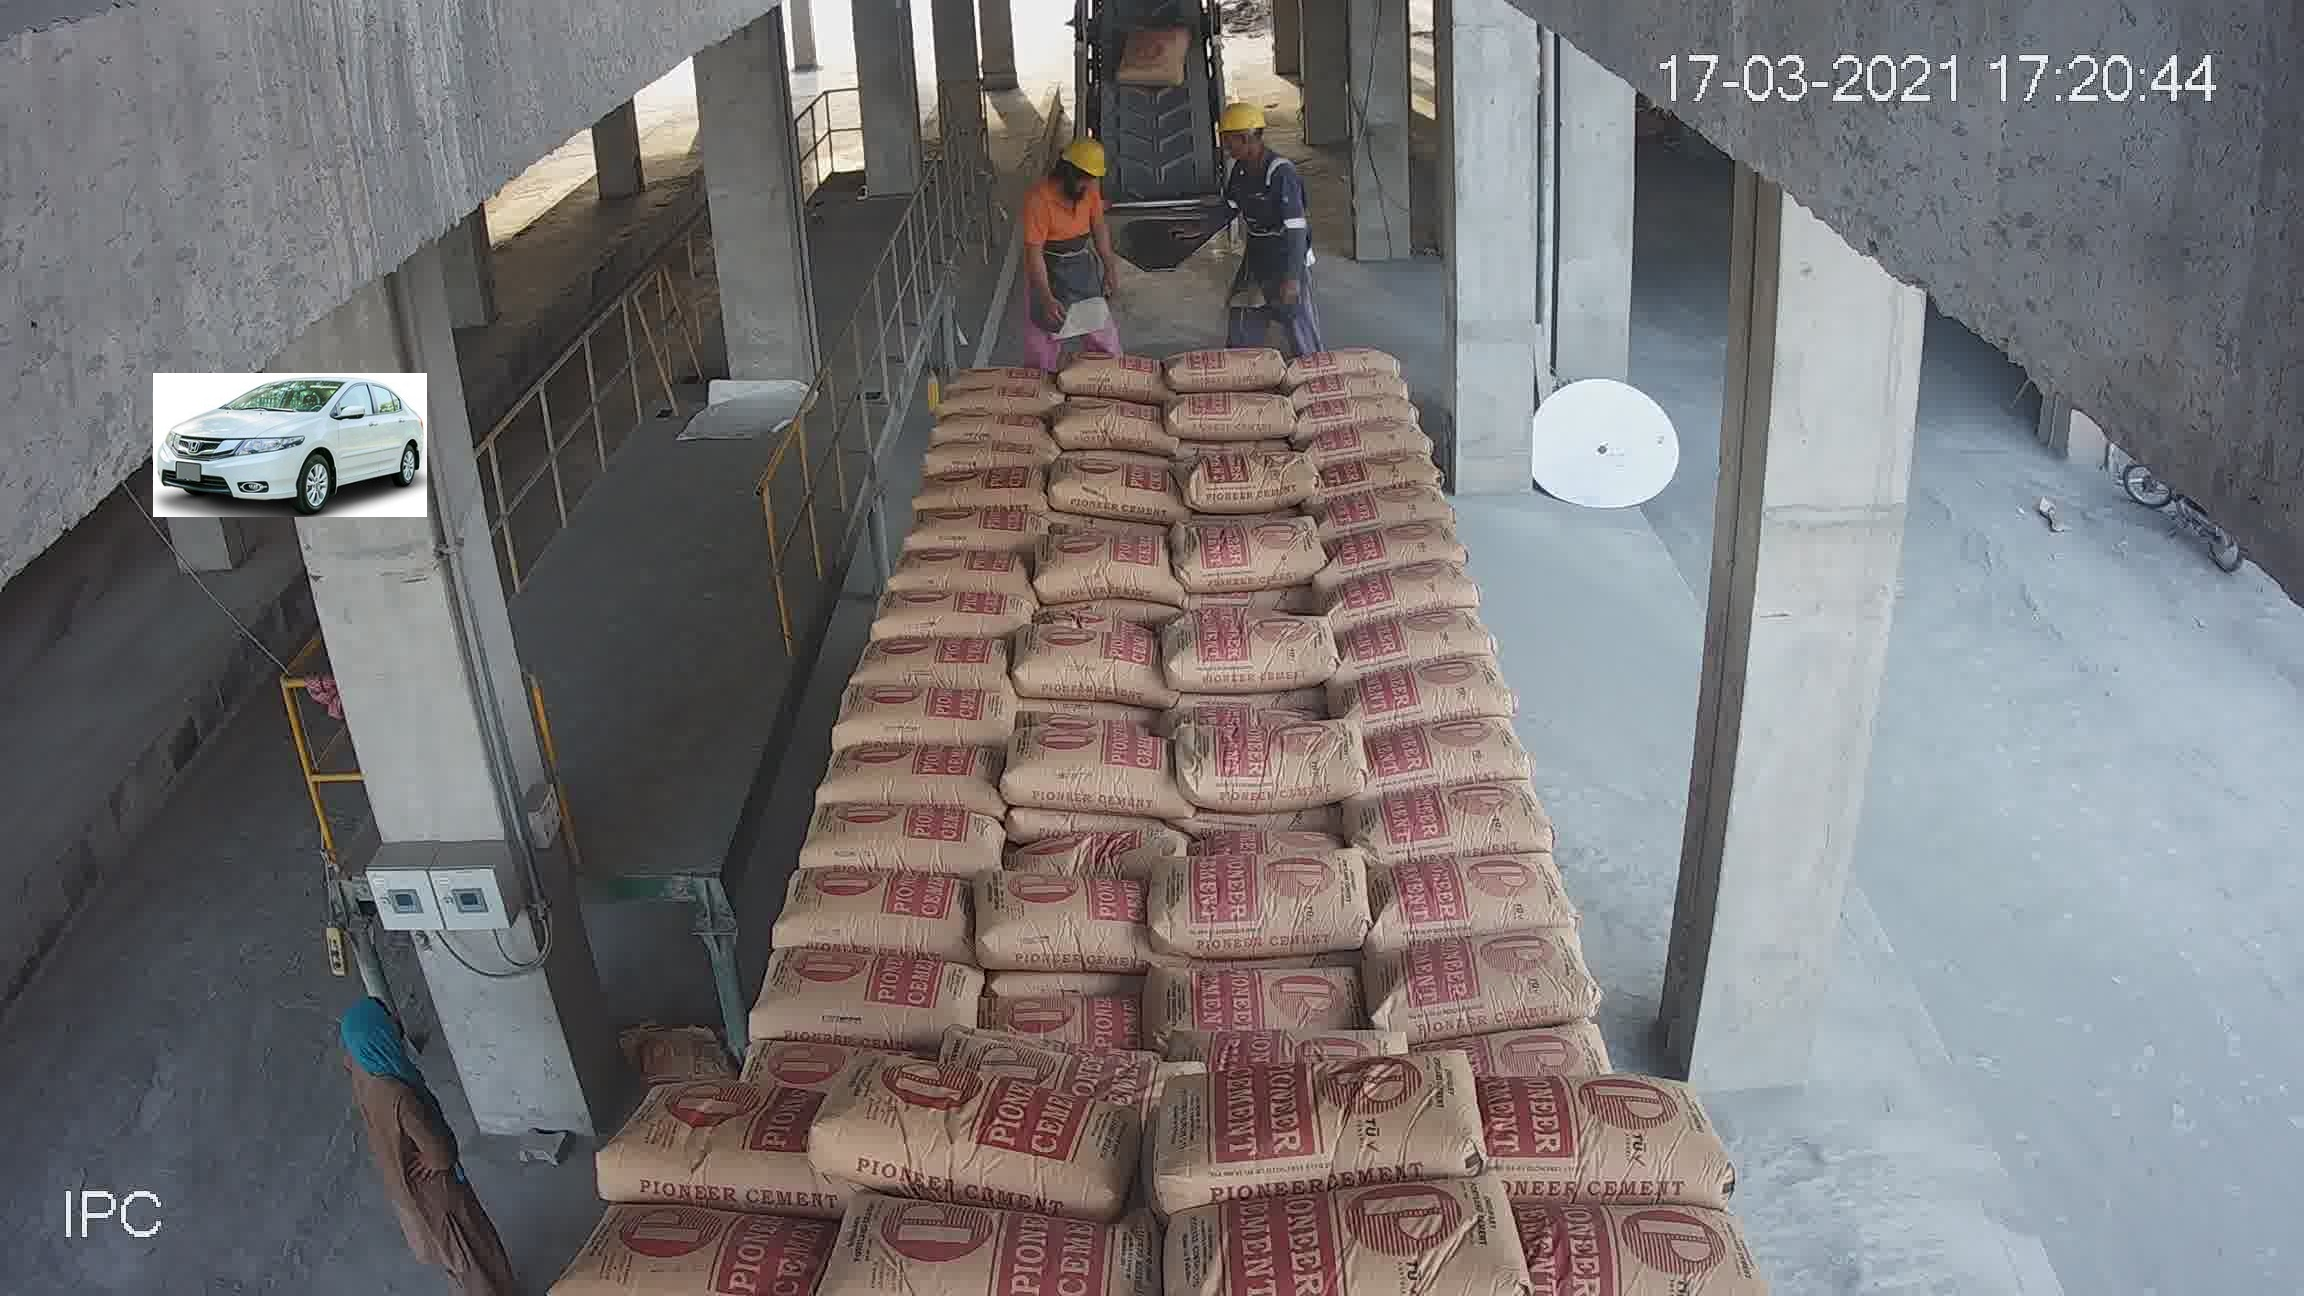bag: (942, 574, 1185, 720), (1081, 157, 1212, 305)
bag_h: (1127, 1040, 1484, 1207), (1146, 1165, 1556, 1296), (873, 918, 1165, 1073), (821, 1063, 1171, 1185), (1464, 918, 1692, 1101), (1453, 1071, 1747, 1206), (630, 943, 877, 1097), (590, 1048, 823, 1207), (1150, 937, 1457, 1052), (1147, 829, 1423, 948), (1514, 1173, 1772, 1296), (831, 1192, 1174, 1283), (543, 1185, 817, 1296), (663, 850, 907, 972), (873, 848, 1138, 961), (1416, 853, 1657, 964), (1160, 779, 1340, 856), (1400, 782, 1563, 859), (1141, 711, 1263, 788), (779, 802, 916, 867), (1416, 711, 1519, 783), (798, 733, 927, 788), (842, 627, 930, 688), (1415, 654, 1499, 714), (828, 699, 930, 744)
belt: (995, 24, 1302, 524)
